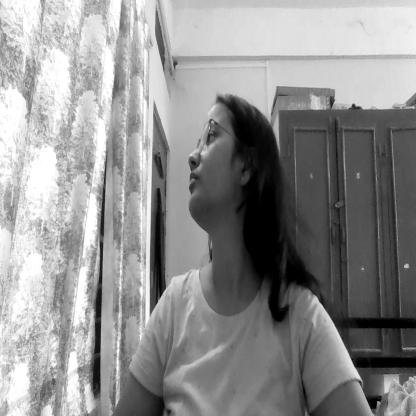Distracted: (186, 101, 258, 236)
